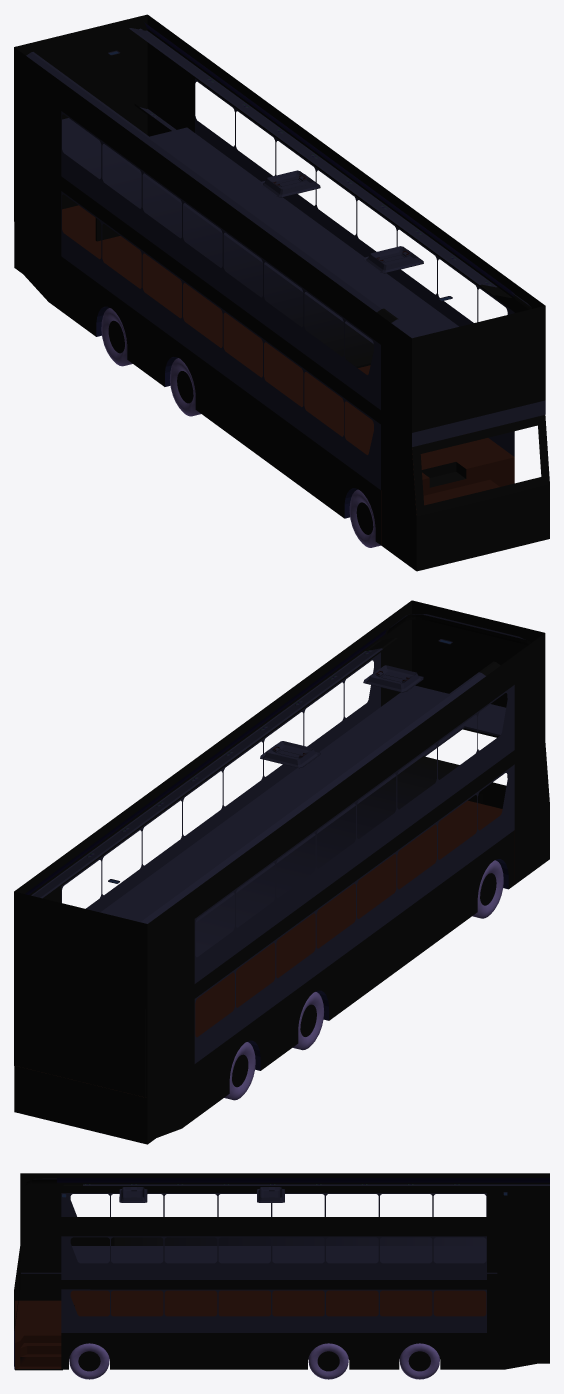
Rendered from Bus_OutFrame.fbx.
3 views of the same model, one above another, from view 1: azimuth 30°, elevation 25°; view 2: azimuth 150°, elevation 25°; view 3: azimuth 270°, elevation 25° (orthographic). The views are drawn at different scales.
Visible parts, largest first — view 1: Bus_Frame; view 2: Bus_Frame; view 3: Bus_Frame.
Boxes of the visible parts, <box> form: Bus_Frame: <box>14,14,549,571</box>; Bus_Frame: <box>14,600,549,1144</box>; Bus_Frame: <box>14,1173,549,1379</box>.
Size of what is drawn, in the model's own units: 348 by 626 by 1819.
